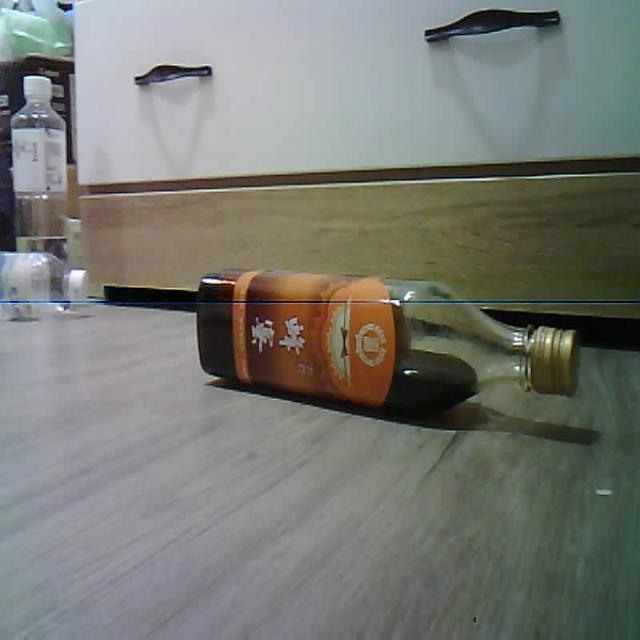bottle: (10, 75, 69, 266), (0, 252, 88, 319)
